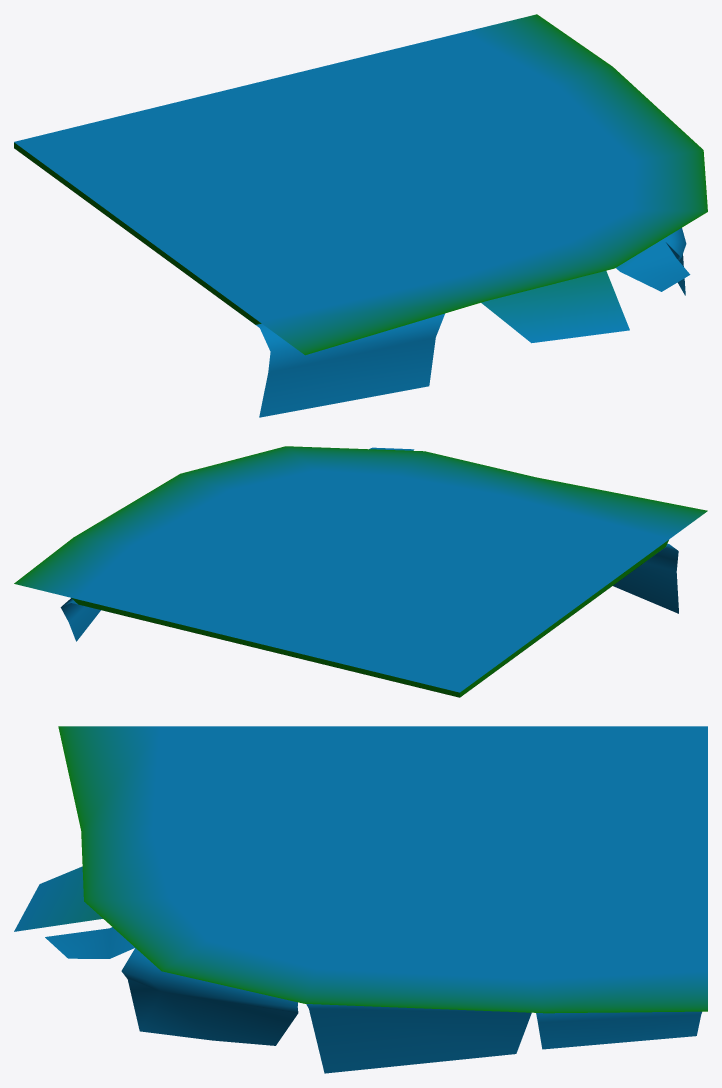
File: DBK_Drywall_Ceiling_End_B.fbx
3 views of the same model, one above another, from view 1: azimuth 30°, elevation 25°; view 2: azimuth 150°, elevation 25°; view 3: azimuth 270°, elevation 25° (orthographic). The views are drawn at different scales.
Parts seen in each view (by area): view 1: DBK_Drywall_Ceiling_End_B; view 2: DBK_Drywall_Ceiling_End_B; view 3: DBK_Drywall_Ceiling_End_B.
Part boxes in pixels (x1,y1,x2,y2): DBK_Drywall_Ceiling_End_B: (14, 14, 707, 417); DBK_Drywall_Ceiling_End_B: (14, 446, 707, 697); DBK_Drywall_Ceiling_End_B: (14, 726, 707, 1073).
Size of what is drawn, in the model's own units: 173 by 28.05 by 175.
